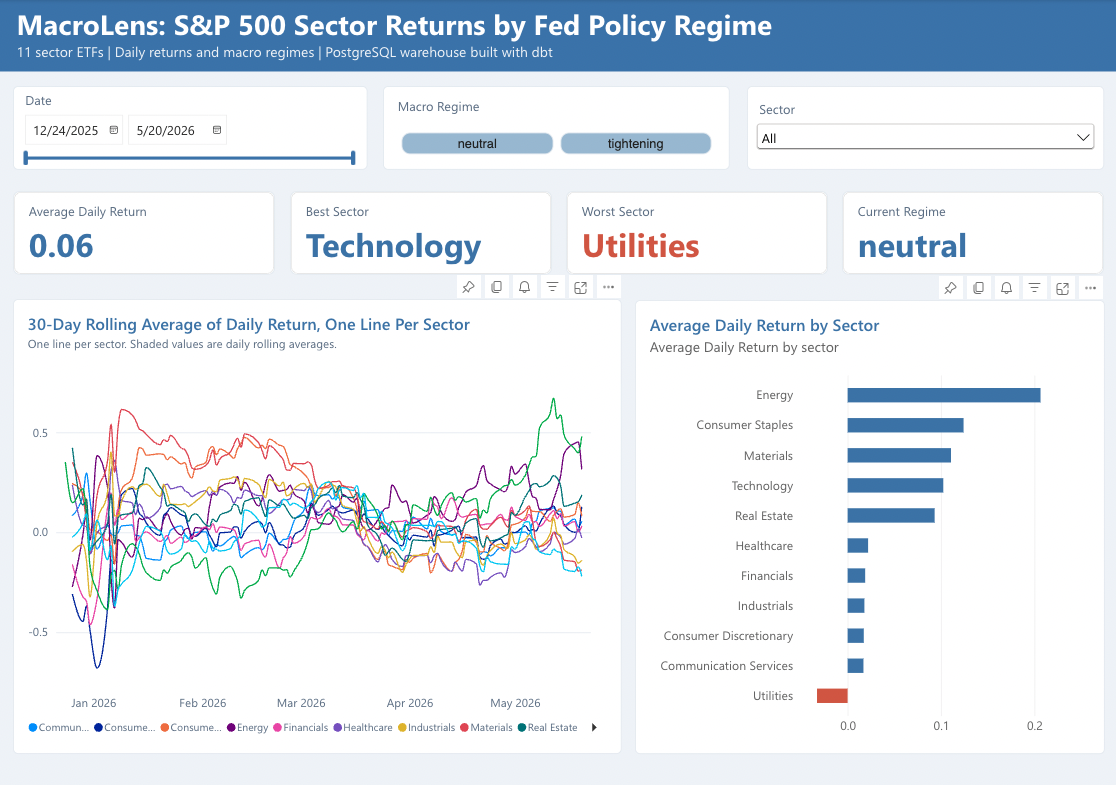

The dashboard page shown, as its layout file describes it:
{"tool":"powerbi","page":{"name":"Page 1","canvas":[1280,900],"ordinal":0},"visuals":[{"type":"textbox","box":[0,0,1920.5,83.1],"z":0},{"type":"cardVisual","fields":{"Data":["mart_sector_performance 1.Avg Daily Return"]},"box":[16.3,219.9,300,96],"z":1000},{"type":"slicer","fields":{"Values":["mart_sector_performance 1.sector"]},"box":[856.3,99.1,409.4,95.9],"z":2000},{"type":"slicer","fields":{"Values":["mart_sector_performance 1.date"]},"box":[16.3,99.4,405.6,96.1],"z":3000},{"type":"ChicletSlicer1448559807354","title":"Macro Regime","fields":{"Category":["mart_sector_performance 1.macro_regime"]},"box":[439.8,99.4,397.5,96.1],"z":4000},{"type":"cardVisual","fields":{"Data":["mart_sector_performance 1.Best Sector"]},"box":[333,219.9,300,96],"z":5000},{"type":"cardVisual","fields":{"Data":["mart_sector_performance 1.Worst Sector"]},"box":[649,219.3,300,96],"z":6000},{"type":"cardVisual","fields":{"Data":["mart_sector_performance 1.Current Regime"]},"box":[965.1,219.3,300,96],"z":7000},{"type":"lineChart","title":"30-Day Rolling Average of Daily Return, One Line Per Sector","fields":{"Category":["mart_sector_performance 1.date"],"Series":["mart_sector_performance 1.sector"],"Y":["Sum(mart_sector_performance 1.rolling_30d_avg_return)"]},"box":[16.3,343.7,697.2,521.3],"z":8000},{"type":"clusteredBarChart","title":"Average Daily Return by Sector","fields":{"Category":["mart_sector_performance 1.sector"],"Y":["mart_sector_performance 1.Avg Daily Return"]},"box":[727.9,344.5,537.8,519.9],"z":9000}]}

Visuals, with their boxes in screenshot pixels (x1, y1, x2, y2), scaled from the page's 1280x900 canvas onto the 1116x785 screenshot:
textbox: BBox(0, 0, 1115, 72)
cardVisual - mart_sector_performance 1.Avg Daily Return: BBox(14, 192, 276, 276)
slicer - mart_sector_performance 1.sector: BBox(747, 86, 1104, 170)
slicer - mart_sector_performance 1.date: BBox(14, 87, 368, 171)
"Macro Regime" ChicletSlicer1448559807354: BBox(383, 87, 730, 171)
cardVisual - mart_sector_performance 1.Best Sector: BBox(290, 192, 552, 276)
cardVisual - mart_sector_performance 1.Worst Sector: BBox(566, 191, 827, 275)
cardVisual - mart_sector_performance 1.Current Regime: BBox(841, 191, 1103, 275)
"30-Day Rolling Average of Daily Return, One Line Per Sector" lineChart: BBox(14, 300, 622, 754)
"Average Daily Return by Sector" clusteredBarChart: BBox(635, 300, 1104, 754)
